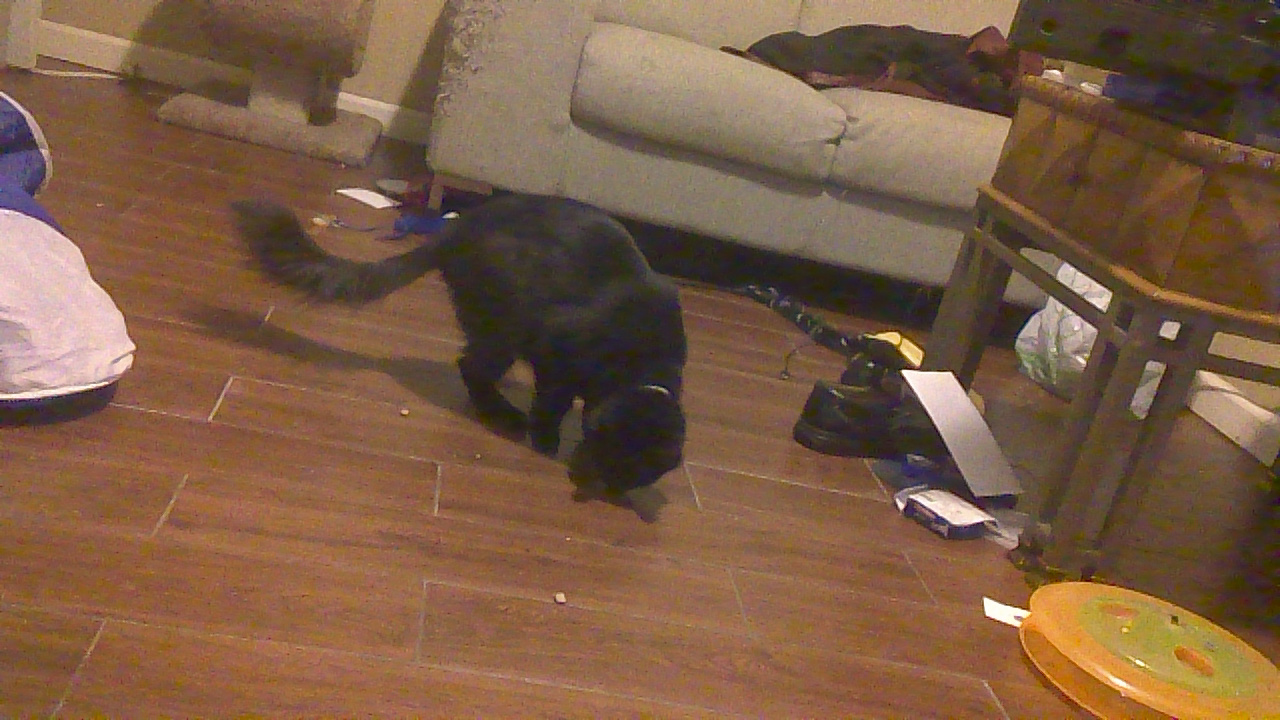cat: (236, 179, 699, 501)
